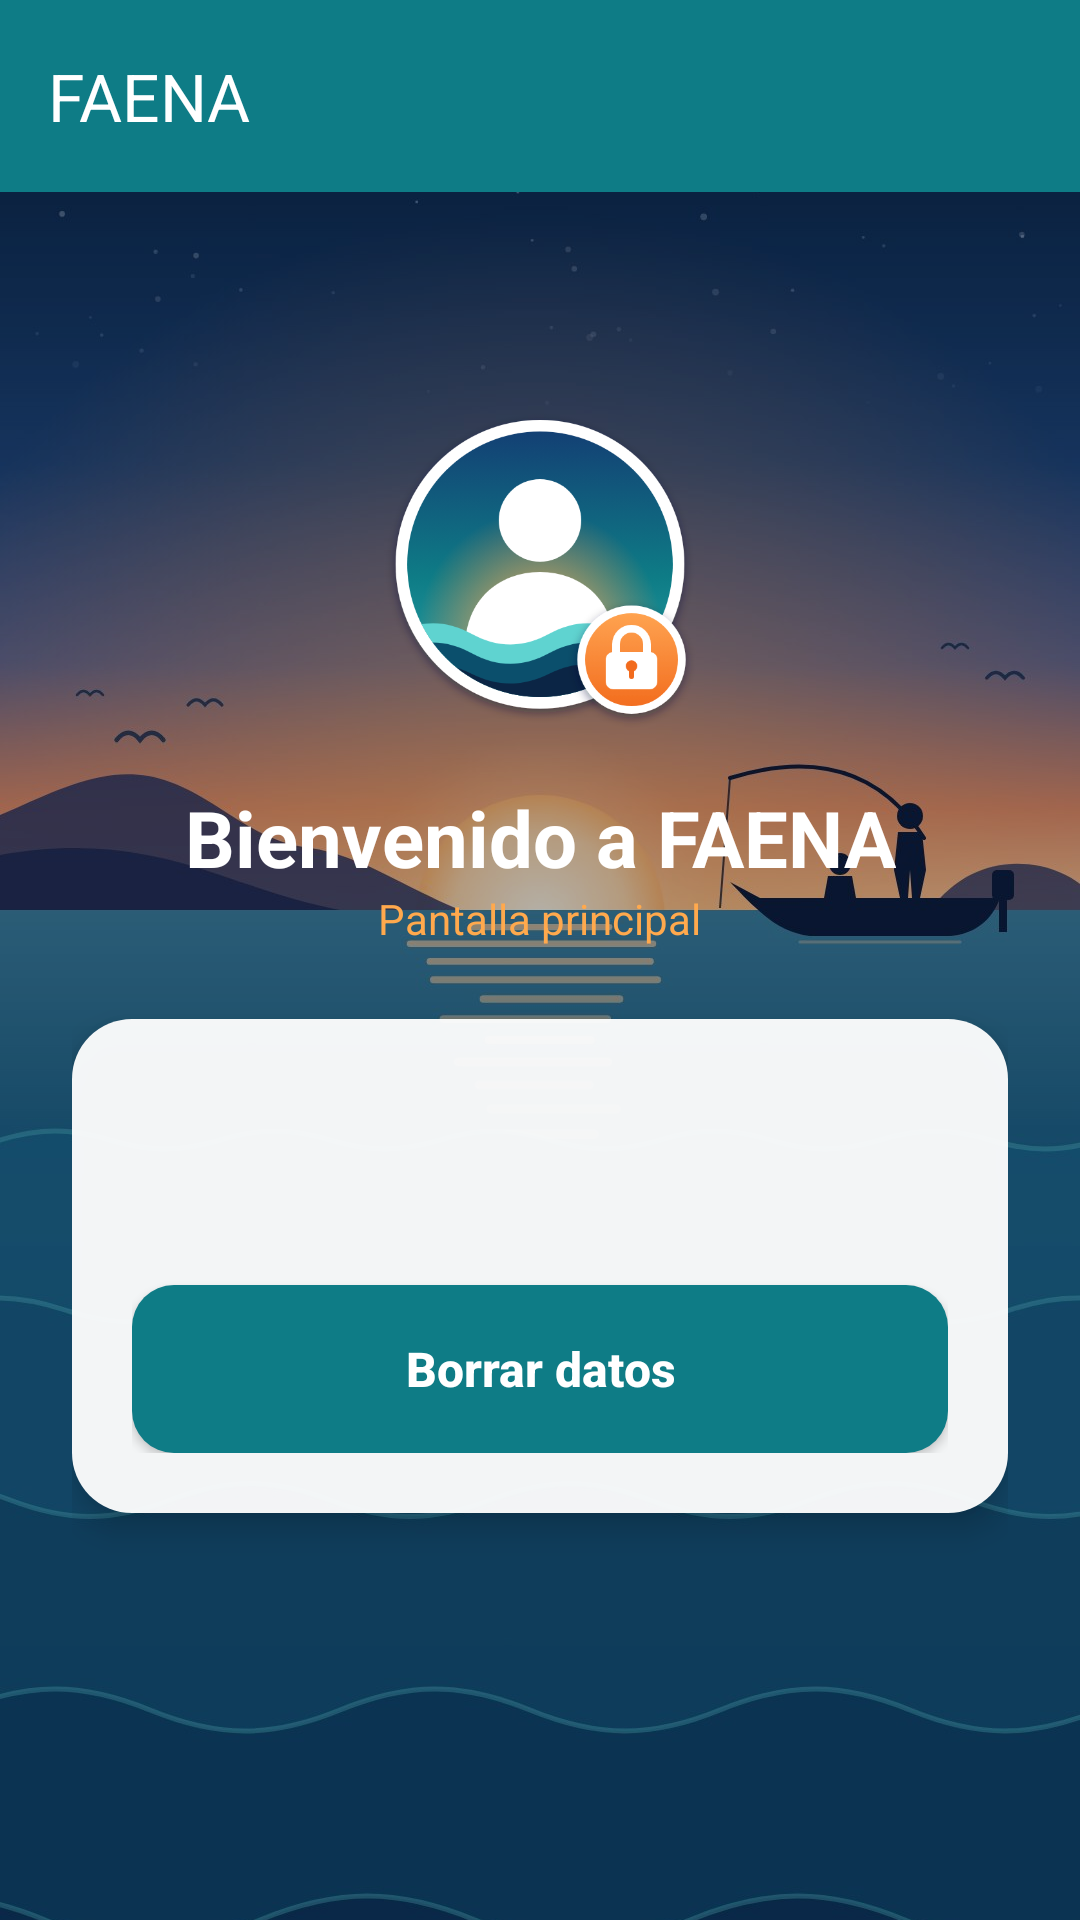

Point at icon controls on the screen. Image size 1080px x 1920px, points as (x=x, y=y).
Imagen de inicio de sesión: (x=540, y=572)
